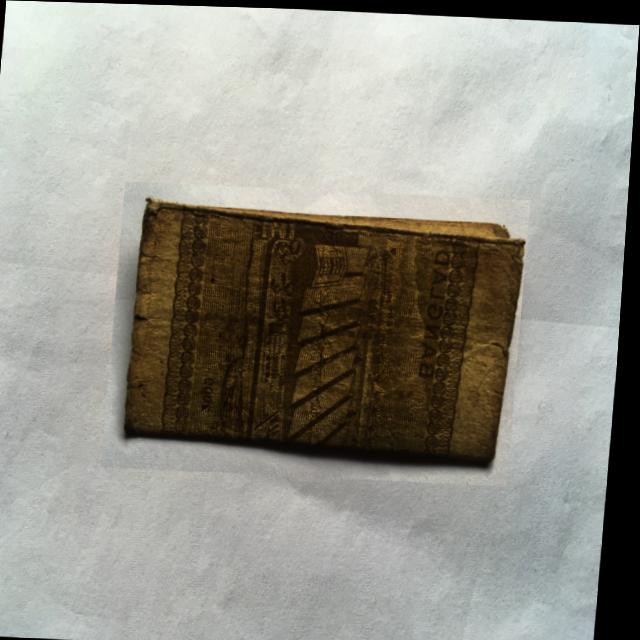Taka: (107, 180, 533, 483)
